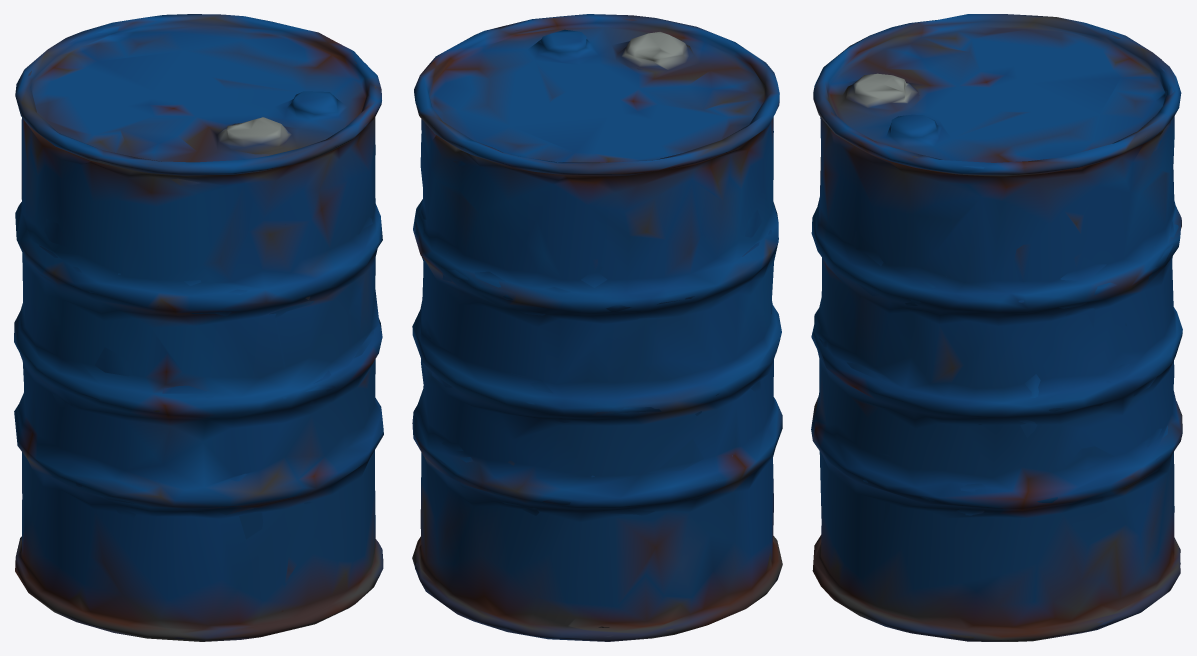
Rendered from gen3d-oil-drum-lod0.glb.
3 renders of one model, left to right at view 1: azimuth 30°, elevation 25°; view 2: azimuth 150°, elevation 25°; view 3: azimuth 270°, elevation 25°, orthographic.
Visible parts, largest first — view 1: part_0; view 2: part_0; view 3: part_0.
Boxes of the visible parts, left/top/right/bottom form: part_0: left=14, top=14, right=383, bottom=641; part_0: left=412, top=14, right=782, bottom=641; part_0: left=811, top=14, right=1182, bottom=641.
Size of the model in its own units: 0.6994 by 0.9998 by 0.6984.
